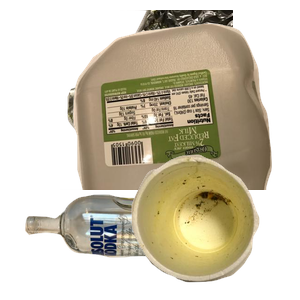glass: (22, 192, 234, 300)
metal: (60, 10, 300, 190)
plastic: (71, 21, 300, 201)
trash: (129, 152, 300, 300)
